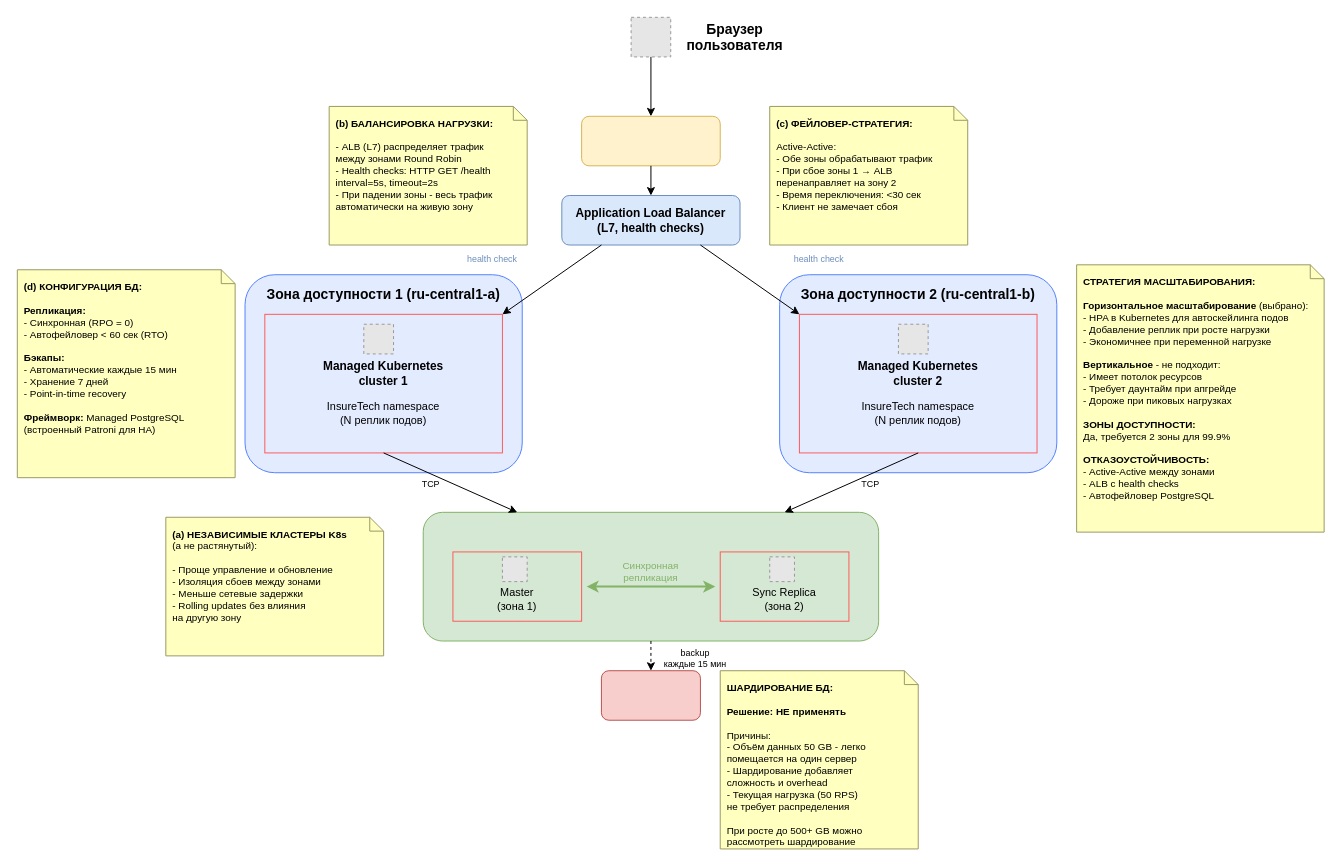
Image size: 1341x866. Some labels were removed from this diagram. Grey dashed boxes stand in for pictures. The box of each missing label's shape, as (x1, y1, x2, y2) in pixels:
Managed Service for PostgreSQL (HA кластер): (422, 511, 879, 641)
Object Storage (бэкапы БД): (600, 670, 700, 720)
Yandex CDN (статический контент): (581, 115, 720, 166)
